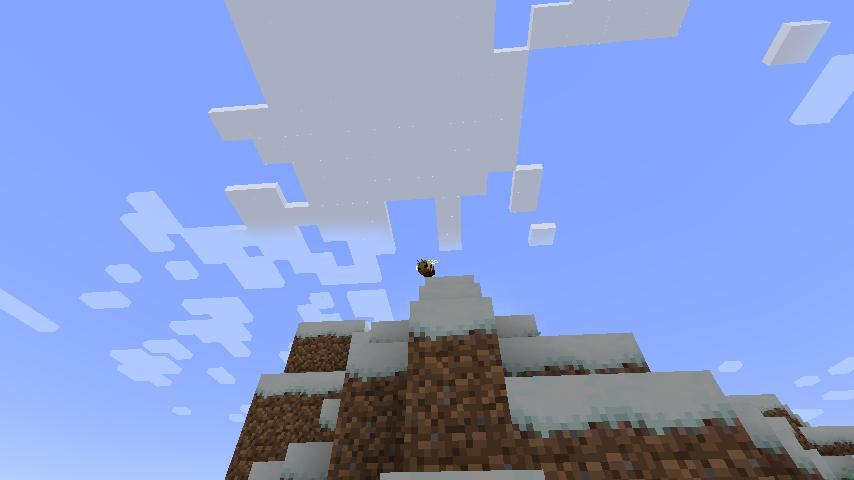bee: (413, 258, 440, 279)
